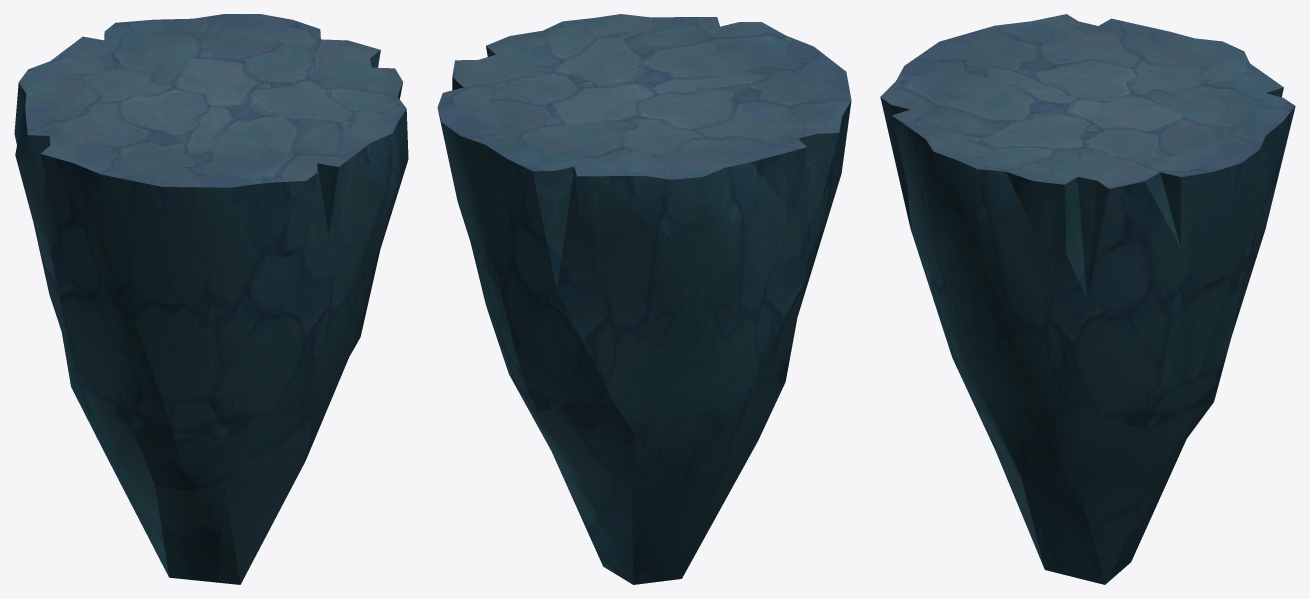
File: map_111_shitou_2.fbx
The picture shows the model from 3 angles, left to right: view 1: azimuth 30°, elevation 25°; view 2: azimuth 150°, elevation 25°; view 3: azimuth 270°, elevation 25°; orthographic projection.
Visible parts, largest first — view 1: map_111_shitou_2; view 2: map_111_shitou_2; view 3: map_111_shitou_2.
Boxes of the visible parts, left/top/right/bottom form: map_111_shitou_2: left=14, top=14, right=408, bottom=584; map_111_shitou_2: left=437, top=14, right=851, bottom=584; map_111_shitou_2: left=880, top=14, right=1295, bottom=584.
Size of the model in its own units: 4.26 by 5.3 by 4.27.
